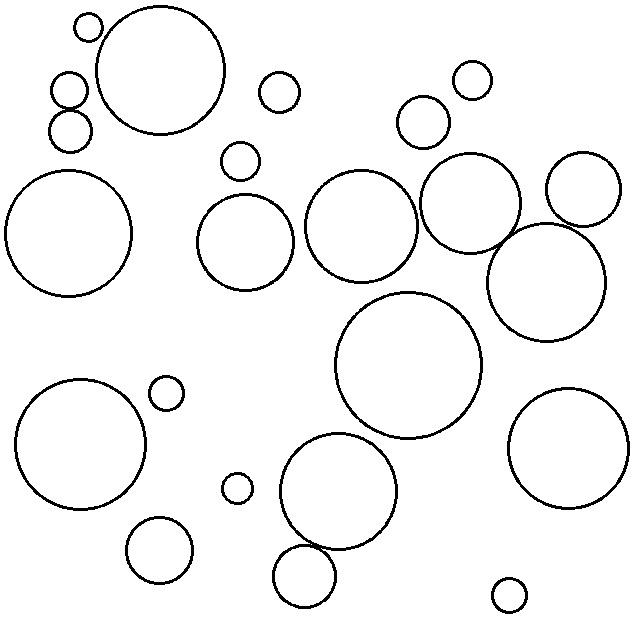circle: (331, 290, 486, 443), (12, 373, 149, 513), (93, 2, 227, 141), (3, 164, 137, 301), (505, 385, 634, 512), (484, 220, 611, 344), (277, 431, 401, 553), (304, 164, 422, 287), (194, 189, 298, 296), (418, 152, 523, 257), (542, 150, 625, 231), (123, 514, 197, 590), (269, 541, 341, 611), (394, 92, 454, 153), (45, 105, 97, 156), (256, 66, 305, 117), (450, 54, 496, 105), (218, 138, 264, 184), (47, 69, 92, 111), (490, 574, 530, 616), (146, 373, 188, 413), (220, 469, 257, 509), (72, 9, 106, 45)
